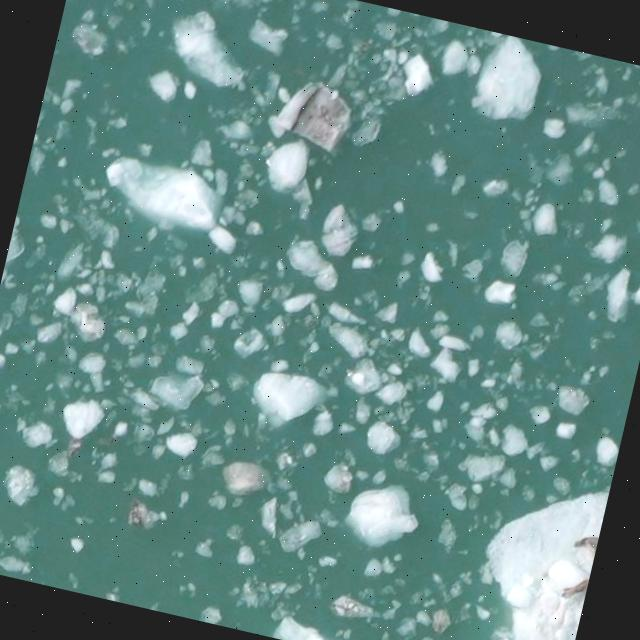seal: (557, 574, 596, 603), (572, 532, 598, 554)
